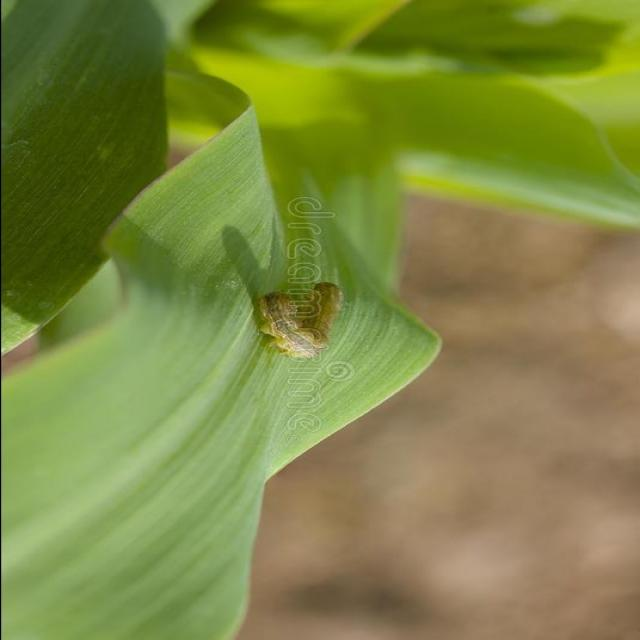army worm: (258, 282, 344, 363)
